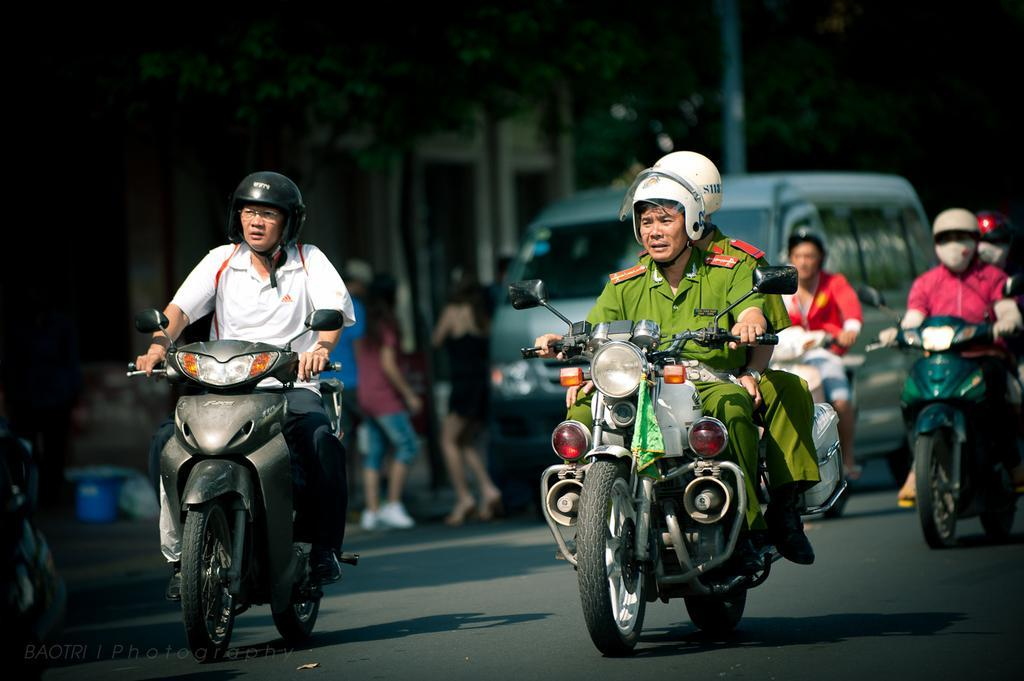helmet: (618, 165, 707, 269), (225, 168, 309, 259), (931, 206, 981, 276), (972, 208, 1015, 268), (786, 221, 830, 274)
